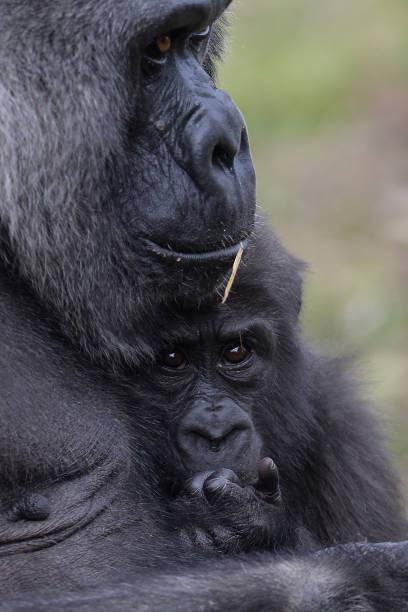gorille_Autres: (5, 1, 407, 612)
